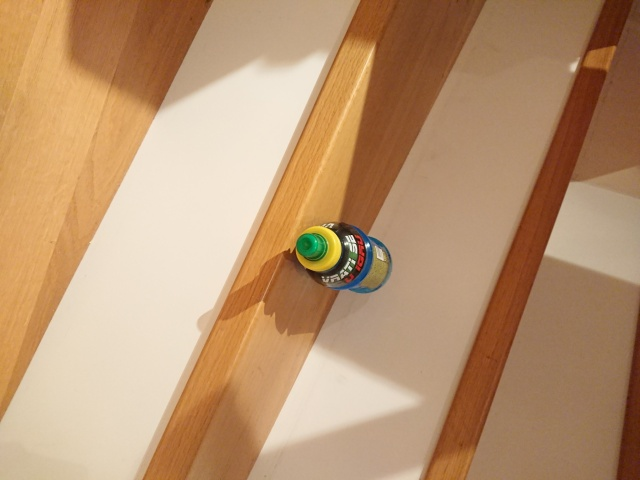Vindi Iso Sport Forest Strawberries 500mL: (294, 219, 394, 295)
